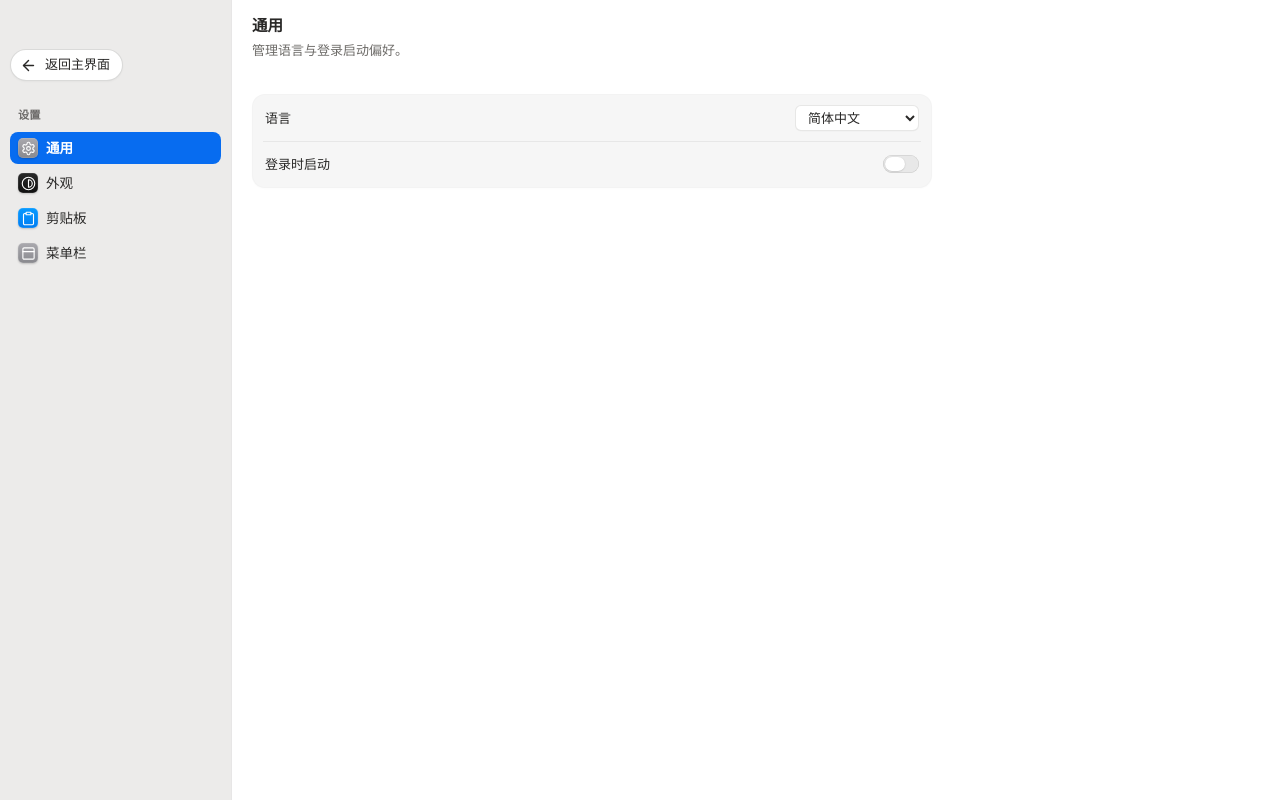
Test case: SettingsView › shows concise storage help on demand without changing a setting
Click the button "剪贴板" at [116, 218], box [10, 202, 221, 234]
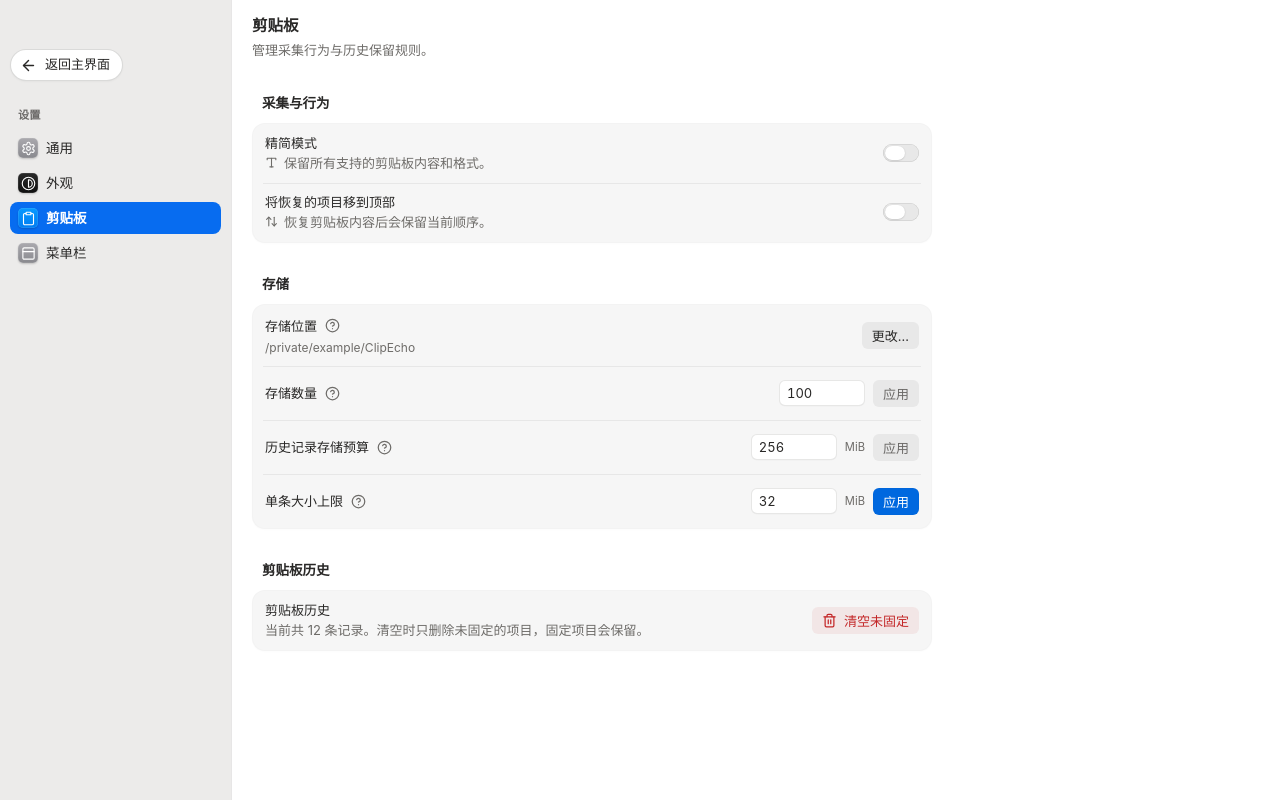
Check: the number of buttons with class "settings-help-trigger" is 4
Click the 2nd button with class "settings-help-trigger" at [332, 393], box [321, 382, 343, 404]
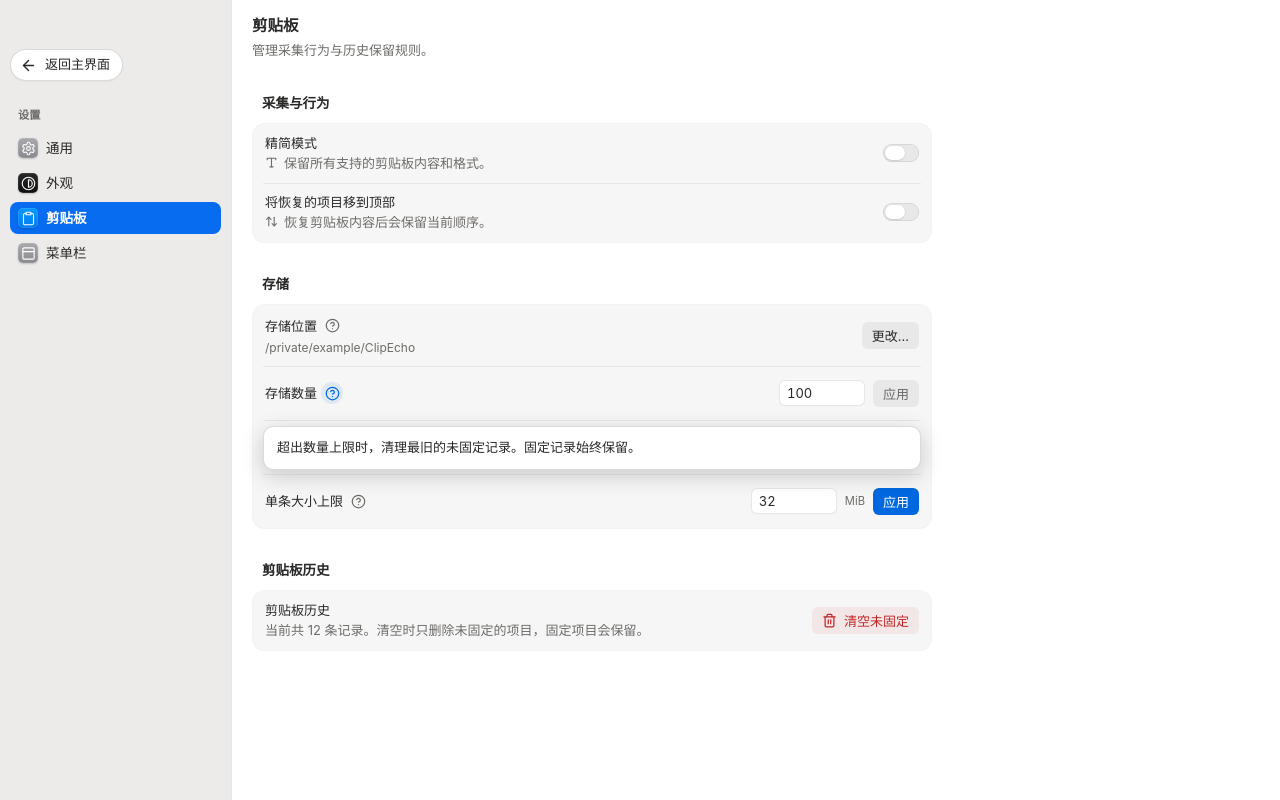
Check: the button with class "settings-help-trigger" is expanded
Check: the text "超出数量上限时，清理最旧的未固定记录。固定记录始终保留。" is shown, box [263, 426, 921, 470]
Click the 2nd button with class "settings-help-trigger" at [332, 393], box [321, 382, 343, 404]
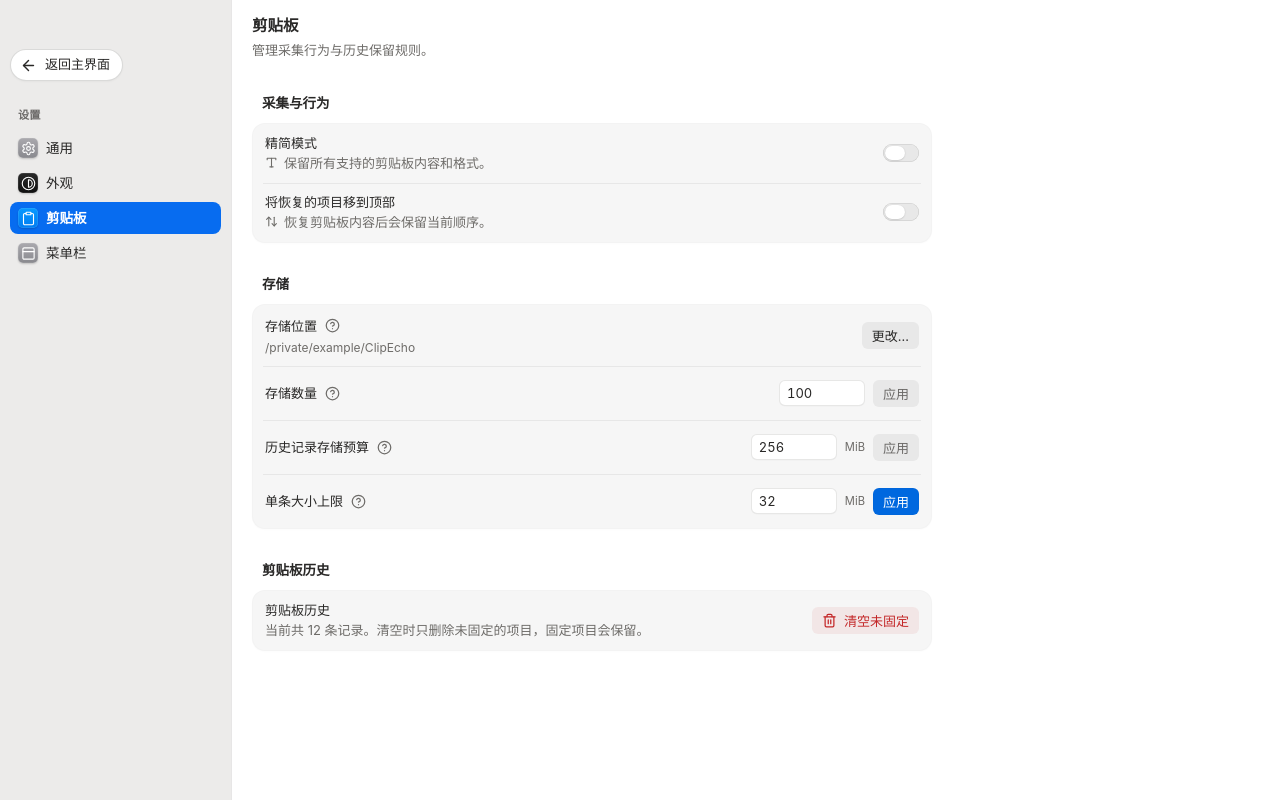
Click the 3rd button with class "settings-help-trigger" at [384, 447], box [373, 436, 395, 458]
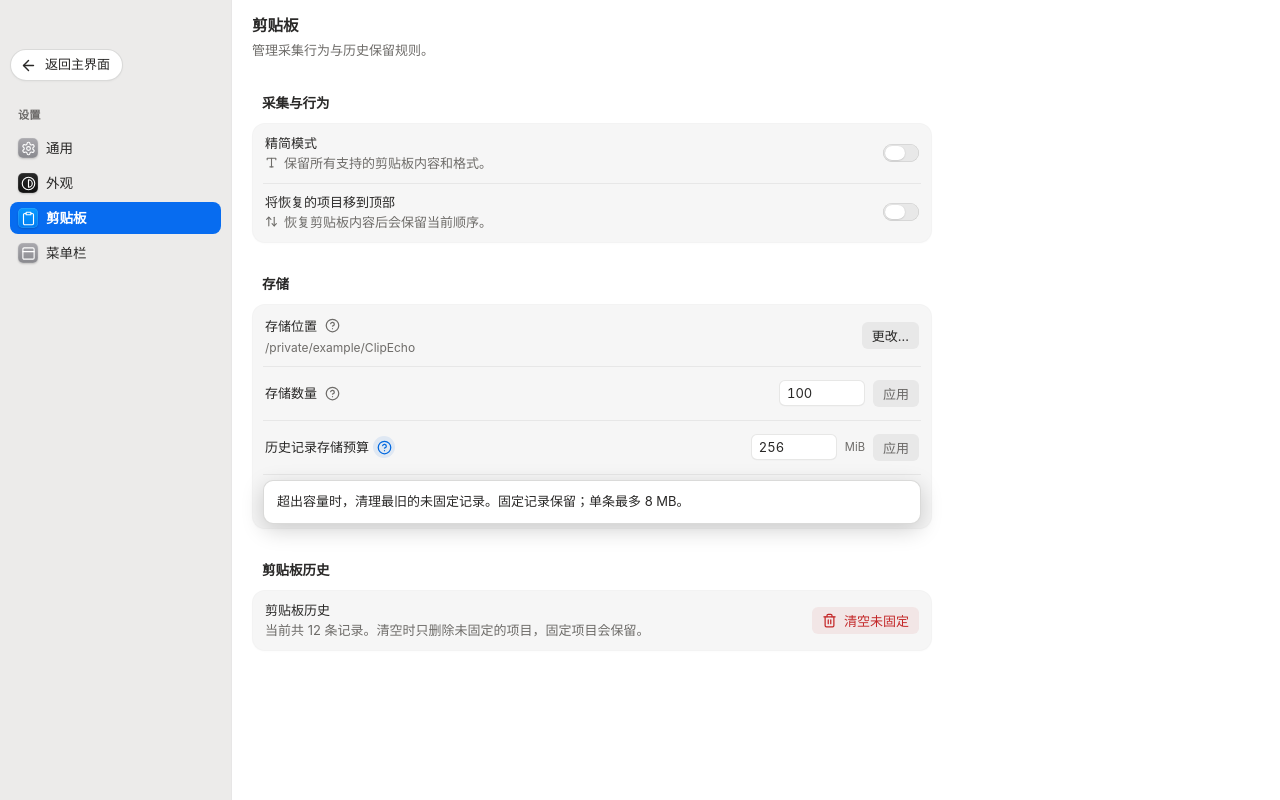
Check: the text "超出容量时，清理最旧的未固定记录。固定记录保留；单条最多 8 MB。" is shown, box [263, 480, 921, 524]
